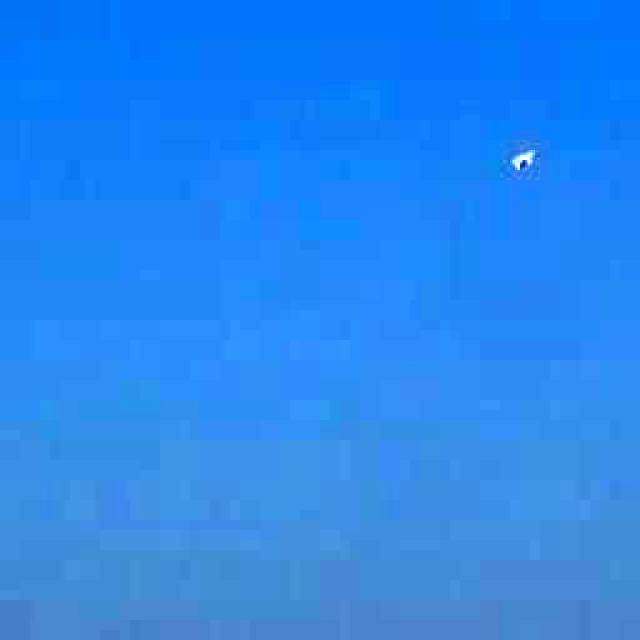bird: (491, 129, 551, 189)
